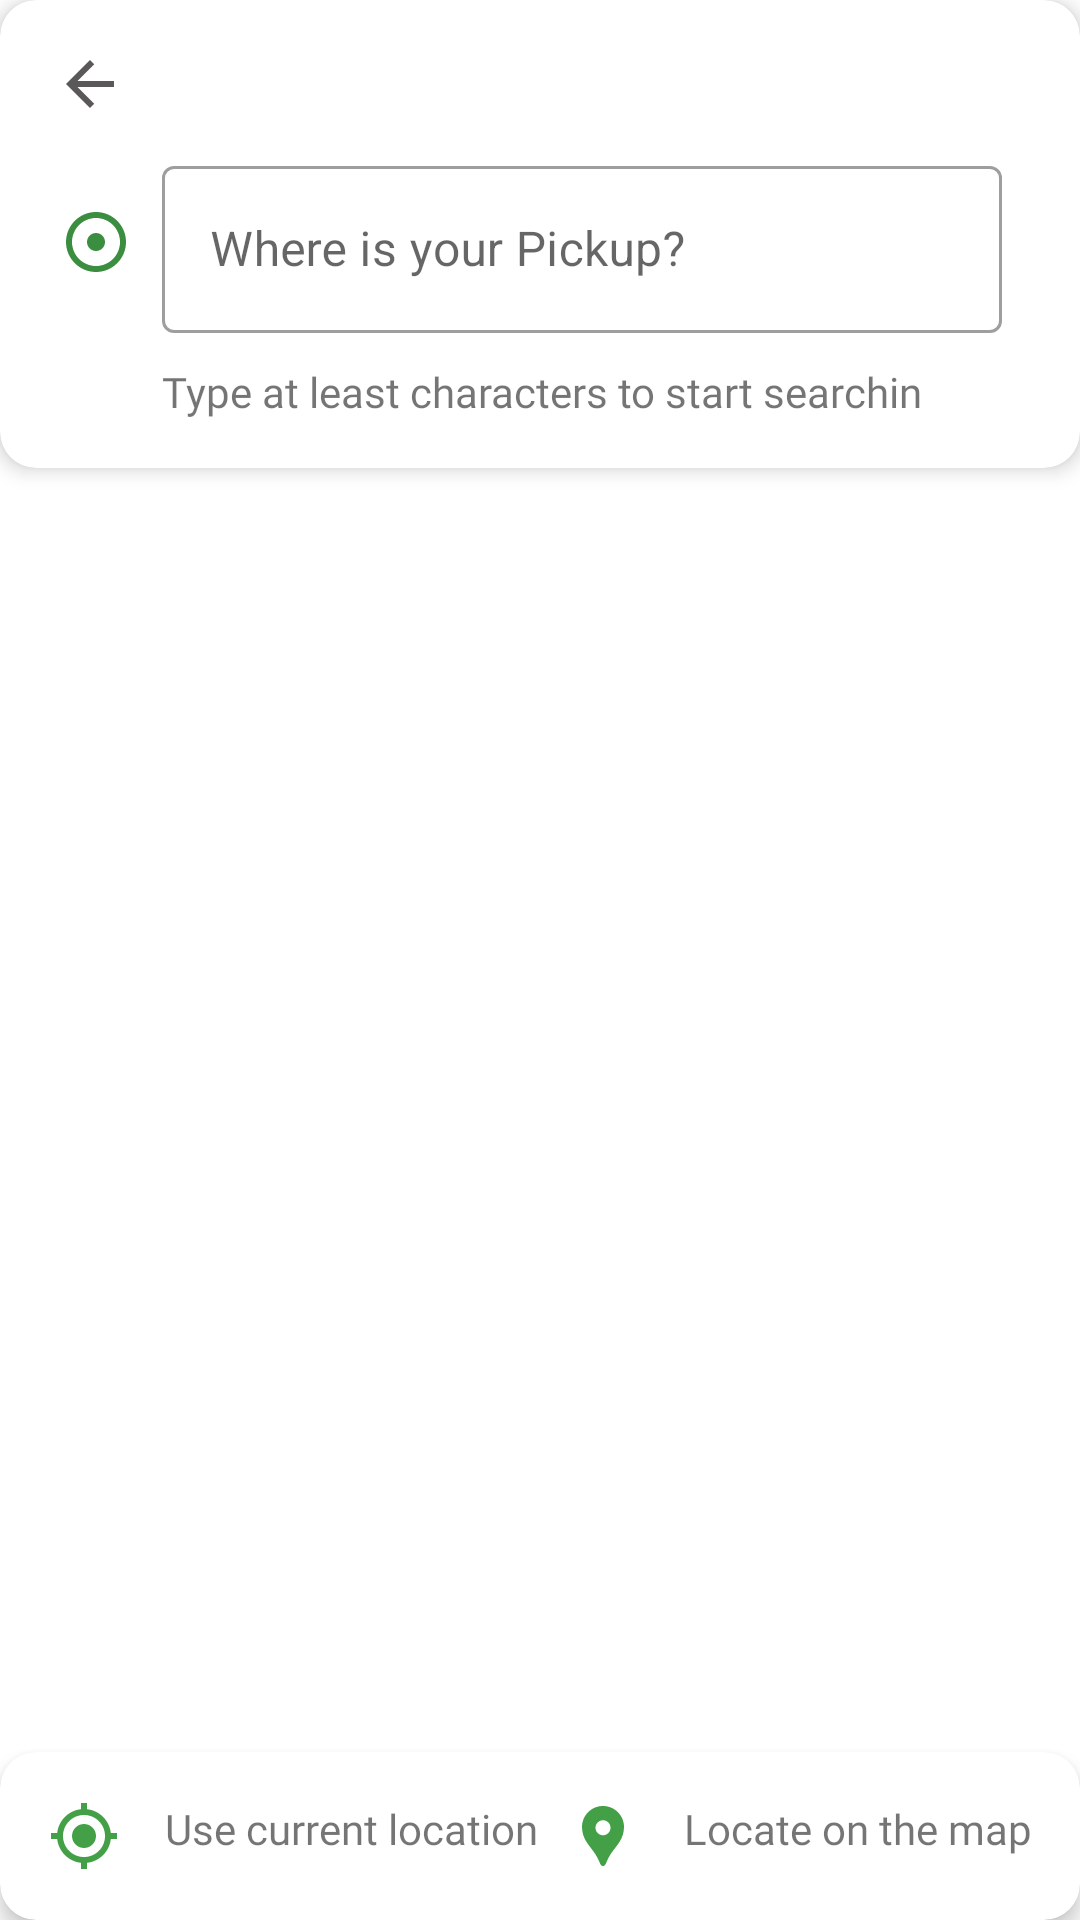

Icons on this 1080px x 1920px Android screen, each with its box as Rect(x1, y1, x2, y2):
back: Rect(66, 60, 114, 108)
